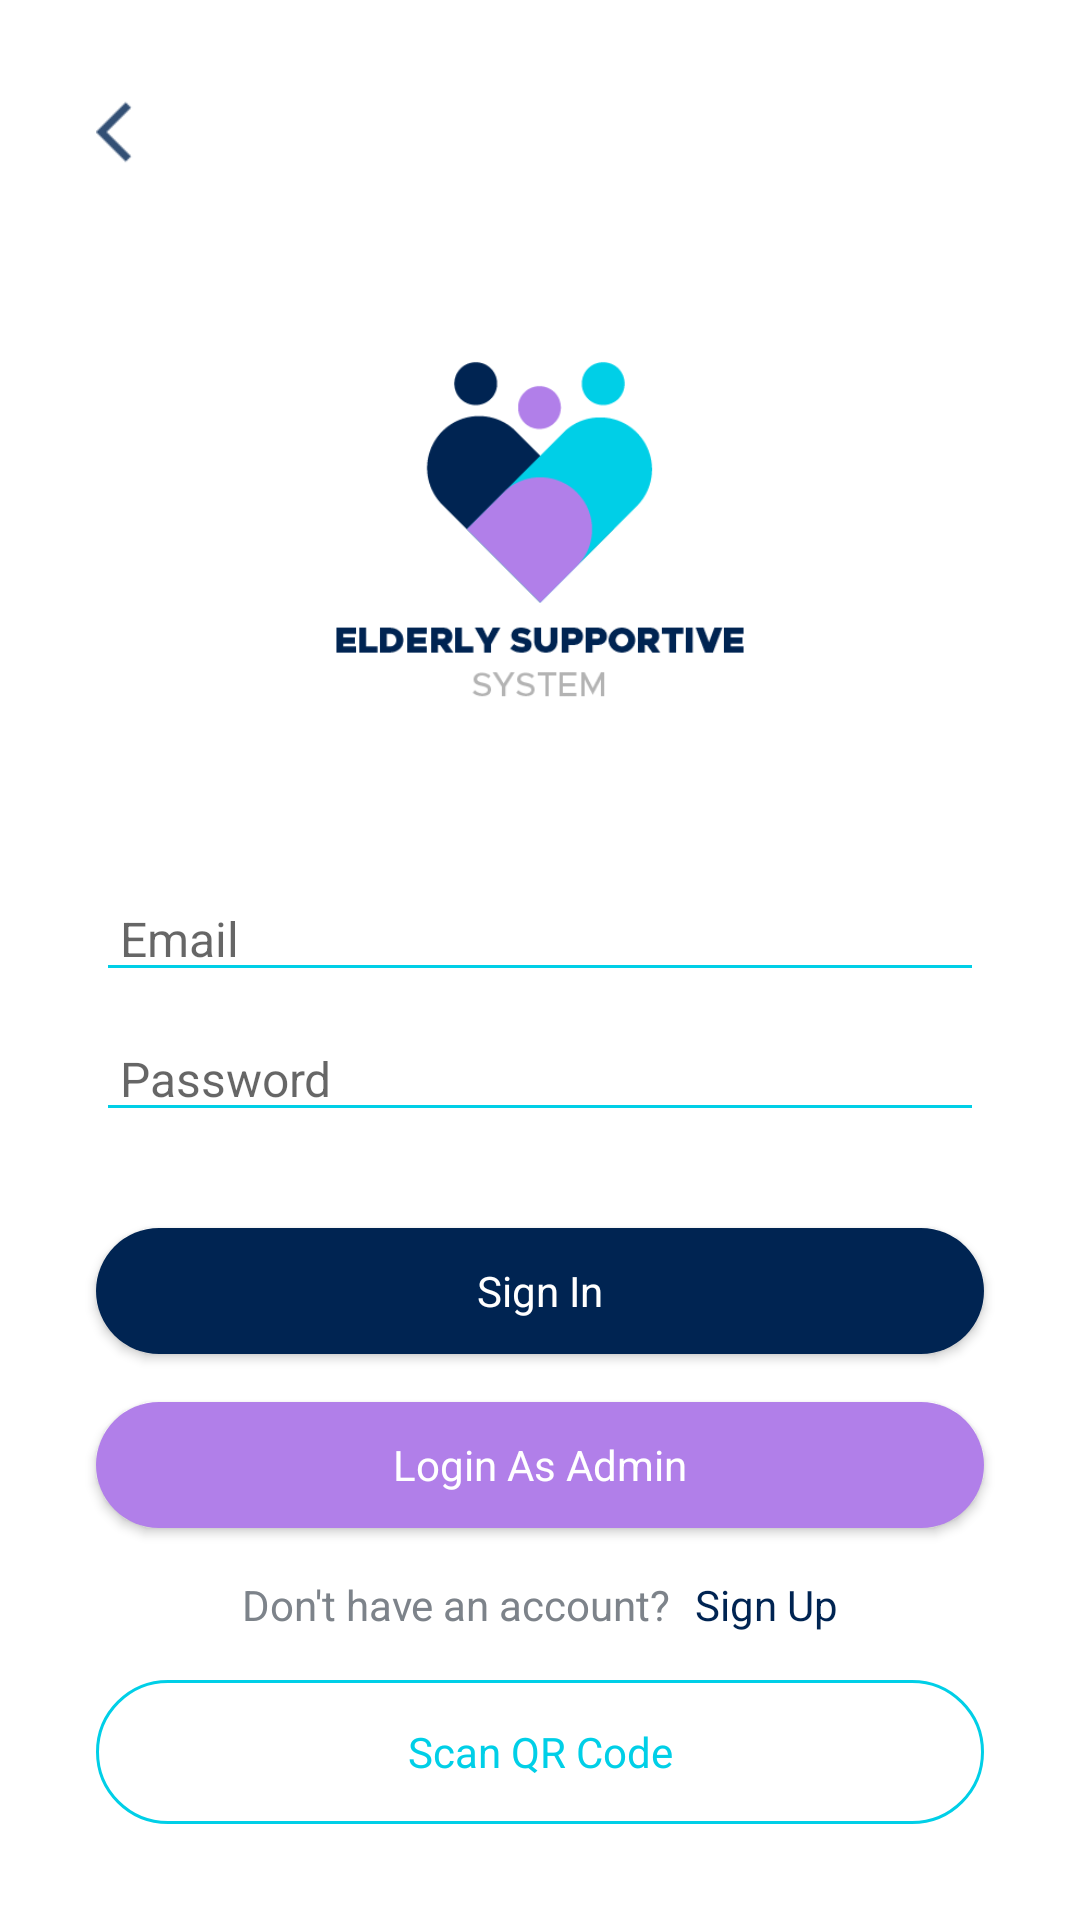

Icon click points for this 1080px×1920px phone screenshot, format [x,y]:
back: [113,132]
